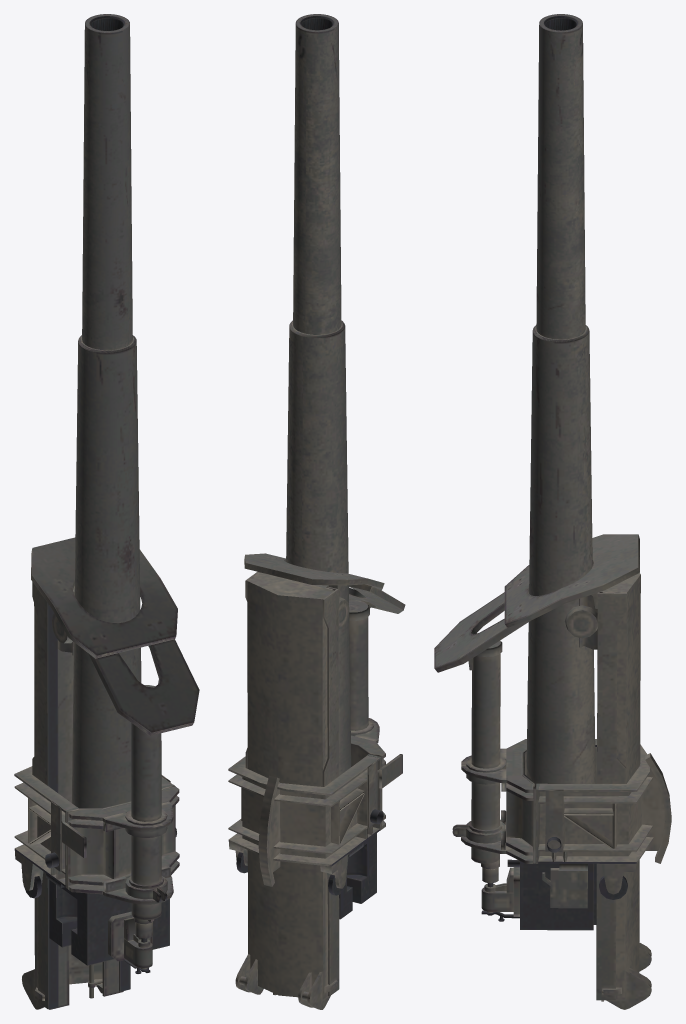
The model's file is Gun_02.glb.
3 renders of one model, left to right at view 1: azimuth 30°, elevation 25°; view 2: azimuth 150°, elevation 25°; view 3: azimuth 270°, elevation 25°, orthographic. The views are drawn at different scales.
Visible parts, largest first — view 1: set_0_group_0; view 2: set_0_group_0; view 3: set_0_group_0.
Part boxes in pixels (x1=…): set_0_group_0: x1=14, y1=14, x2=199, y2=1009; set_0_group_0: x1=228, y1=14, x2=405, y2=1009; set_0_group_0: x1=434, y1=14, x2=671, y2=1009.
Size of the model in its own units: 0.9363 by 7.16 by 1.59.
Materials: 1 (1 with a texture image).
